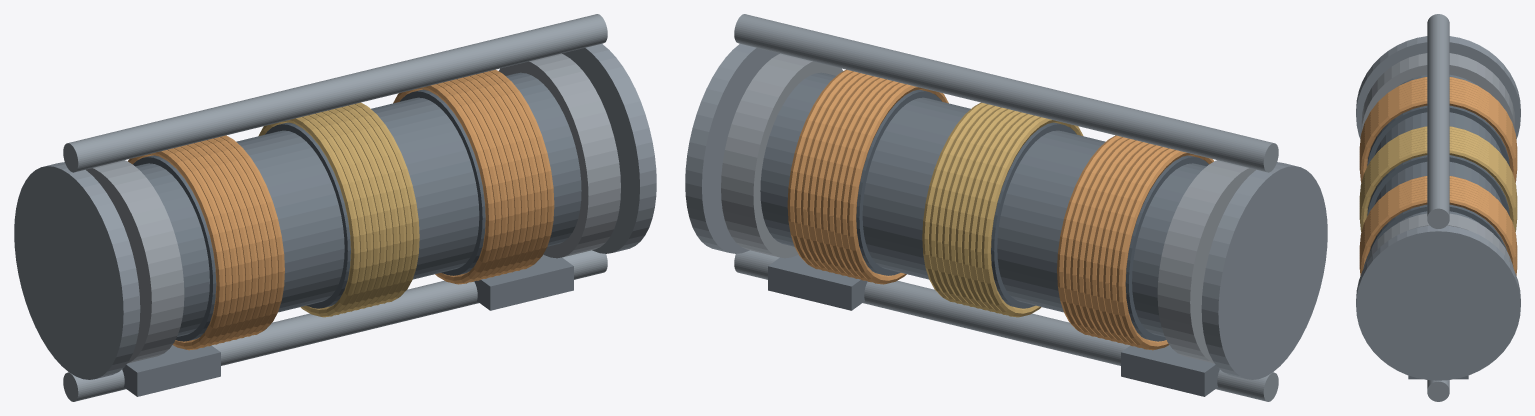
The model's file is lvdt.glb.
The picture shows the model from 3 angles, left to right: view 1: azimuth 30°, elevation 25°; view 2: azimuth 150°, elevation 25°; view 3: azimuth 270°, elevation 25°; orthographic projection. The views are drawn at different scales.
Parts seen in each view (by area): view 1: Bobbin_CoreTube, Left_Housing_Rim, Top_Guide_Rod, Bottom_Guide_Rod, Left_End_Collar, Right_End_Collar, Right_Housing_Rim, Mount_Foot_L, Mount_Foot_R, Secondary_S2_Copper_Turn_01, Primary_Copper_Turn_01, Secondary_S1_Copper_Turn_01 (+30 smaller); view 2: Bobbin_CoreTube, Left_Housing_Rim, Top_Guide_Rod, Bottom_Guide_Rod, Left_End_Collar, Right_End_Collar, Right_Housing_Rim, Mount_Foot_L, Mount_Foot_R, Secondary_S2_Copper_Turn_01, Primary_Copper_Turn_01, Secondary_S1_Copper_Turn_01 (+30 smaller); view 3: Right_Housing_Rim, Top_Guide_Rod, Left_Housing_Rim, Left_End_Collar, Bobbin_CoreTube, Secondary_S1_Copper_Turn_10, Primary_Copper_Turn_10, Secondary_S2_Copper_Turn_10, Right_End_Collar, Primary_Copper_Bobbin, Secondary_S1_Copper_Bobbin, Secondary_S2_Copper_Bobbin (+28 smaller).
Boxes of the visible parts, x1,y1,x2,y2 form: Bobbin_CoreTube: (135,72,581,336); Left_Housing_Rim: (14,162,140,379); Top_Guide_Rod: (63,14,607,172); Bottom_Guide_Rod: (63,250,607,401); Left_End_Collar: (86,160,184,363); Right_End_Collar: (498,53,620,258); Right_Housing_Rim: (562,43,656,253); Mount_Foot_L: (122,345,220,396); Mount_Foot_R: (474,254,573,310); Secondary_S2_Copper_Turn_01: (393,84,494,284); Primary_Copper_Turn_01: (258,117,360,317); Secondary_S1_Copper_Turn_01: (128,150,225,350); Bobbin_CoreTube: (760,72,1206,336); Left_Housing_Rim: (1201,162,1327,379); Top_Guide_Rod: (734,14,1278,172); Bottom_Guide_Rod: (734,250,1278,401); Left_End_Collar: (1157,160,1255,363); Right_End_Collar: (721,53,843,258); Right_Housing_Rim: (685,43,779,253); Mount_Foot_L: (1121,345,1219,396); Mount_Foot_R: (768,254,867,310); Secondary_S2_Copper_Turn_01: (847,84,948,284); Primary_Copper_Turn_01: (981,117,1083,317); Secondary_S1_Copper_Turn_01: (1116,150,1213,350); Right_Housing_Rim: (1356,225,1520,380); Top_Guide_Rod: (1427,14,1449,228); Left_Housing_Rim: (1356,36,1520,138); Left_End_Collar: (1361,53,1515,131); Bobbin_CoreTube: (1374,74,1502,223); Secondary_S1_Copper_Turn_10: (1359,98,1517,182); Primary_Copper_Turn_10: (1359,148,1517,231); Secondary_S2_Copper_Turn_10: (1359,198,1517,275); Right_End_Collar: (1363,213,1513,268); Primary_Copper_Bobbin: (1367,155,1509,215); Secondary_S1_Copper_Bobbin: (1367,105,1509,166); Secondary_S2_Copper_Bobbin: (1370,204,1506,250).
Bounding box in the file's own units: 0.574 × 0.264 × 0.204.
